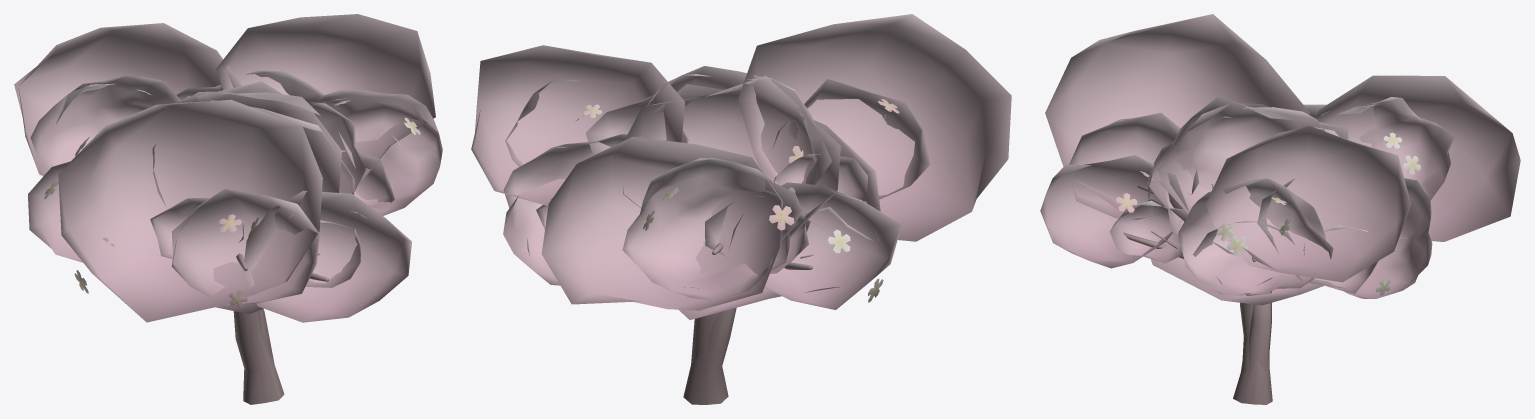
File: crab_apple.glb
3 views of the same model, side by side, from view 1: azimuth 30°, elevation 25°; view 2: azimuth 150°, elevation 25°; view 3: azimuth 270°, elevation 25° (orthographic). The views are drawn at different scales.
Visible parts, largest first — view 1: far, near; view 2: far, near; view 3: far, near.
Part boxes in pixels (x1=…): far: x1=14, y1=14, x2=435, y2=388; near: x1=28, y1=70, x2=442, y2=404; far: x1=471, y1=14, x2=1011, y2=376; near: x1=503, y1=66, x2=930, y2=404; far: x1=1045, y1=14, x2=1520, y2=375; near: x1=1040, y1=96, x2=1454, y2=404.
Bounding box in the file's own units: 8.96 × 6.61 × 9.31.
